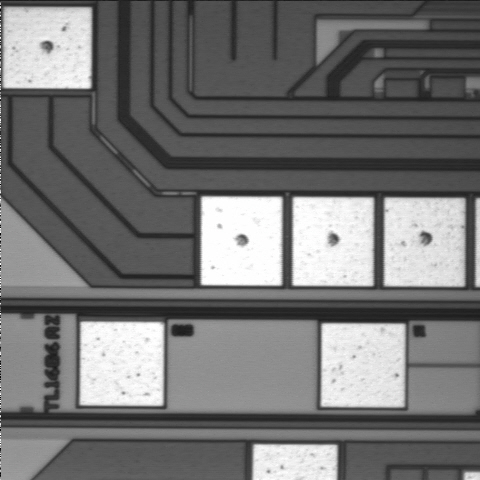pad: (201, 196, 282, 286), (3, 7, 91, 89), (293, 197, 374, 286), (384, 198, 465, 286), (80, 322, 164, 406), (321, 323, 405, 407)
